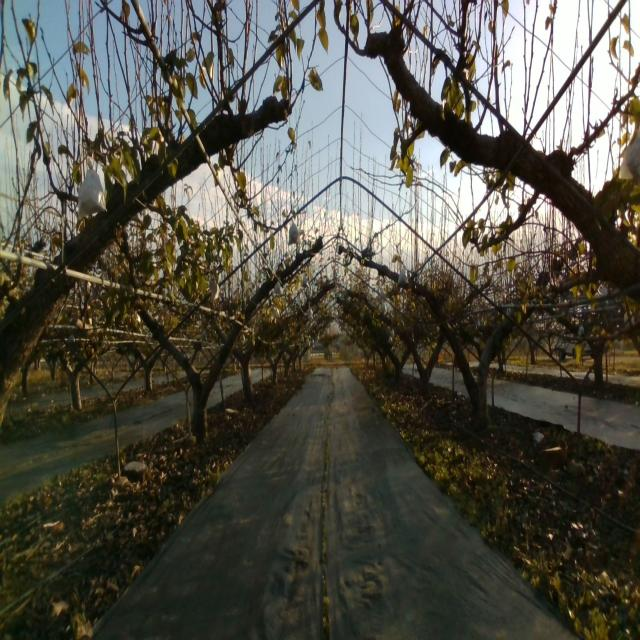pearbags: (76, 154, 107, 222), (288, 217, 302, 245), (397, 266, 409, 285)
